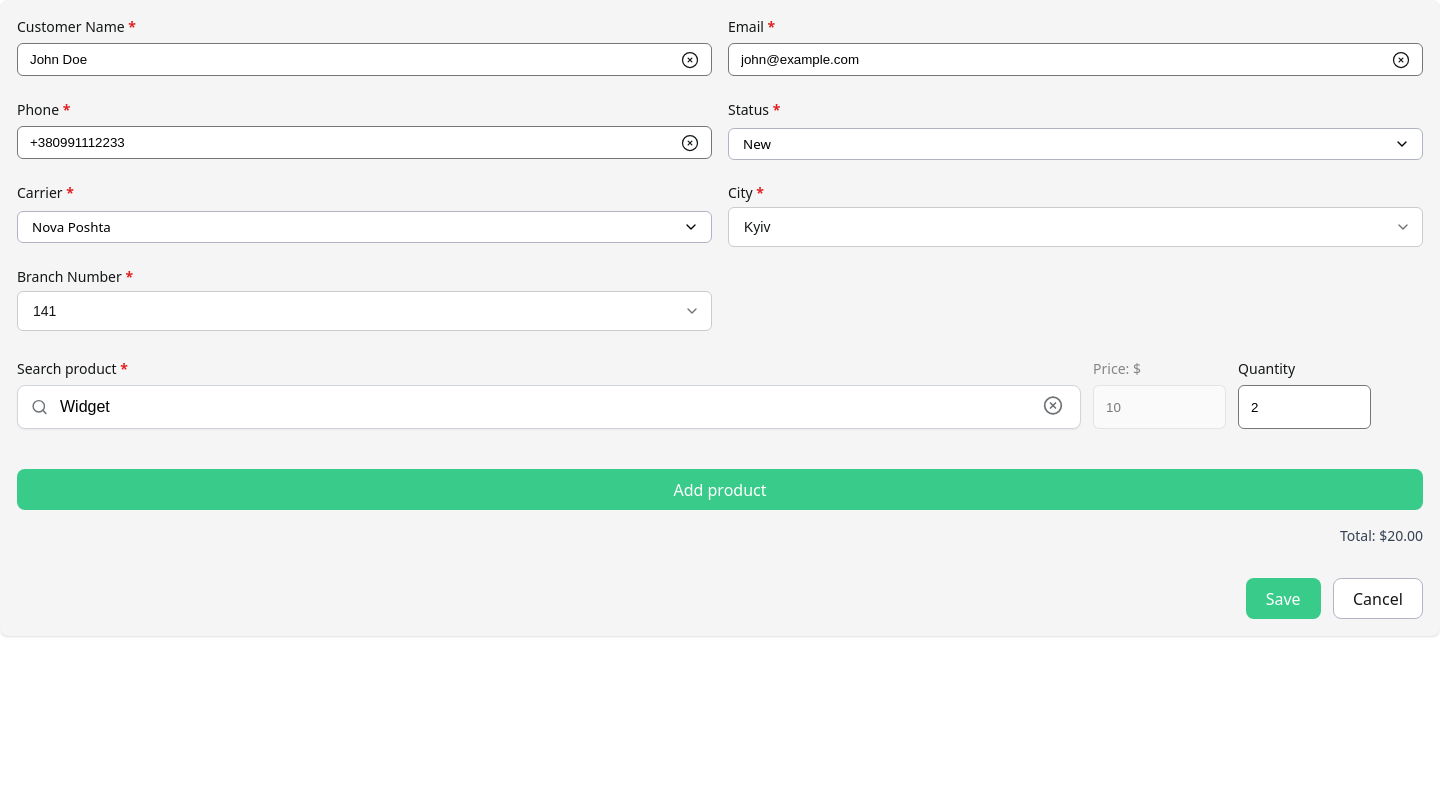
Component: AdminOrderForm › switches to non-nova carrier and clears searchable shipping mode
Click the dropdown labelled "Nova Poshta". click: (71, 227)
box: left=17, top=211, right=712, bottom=243
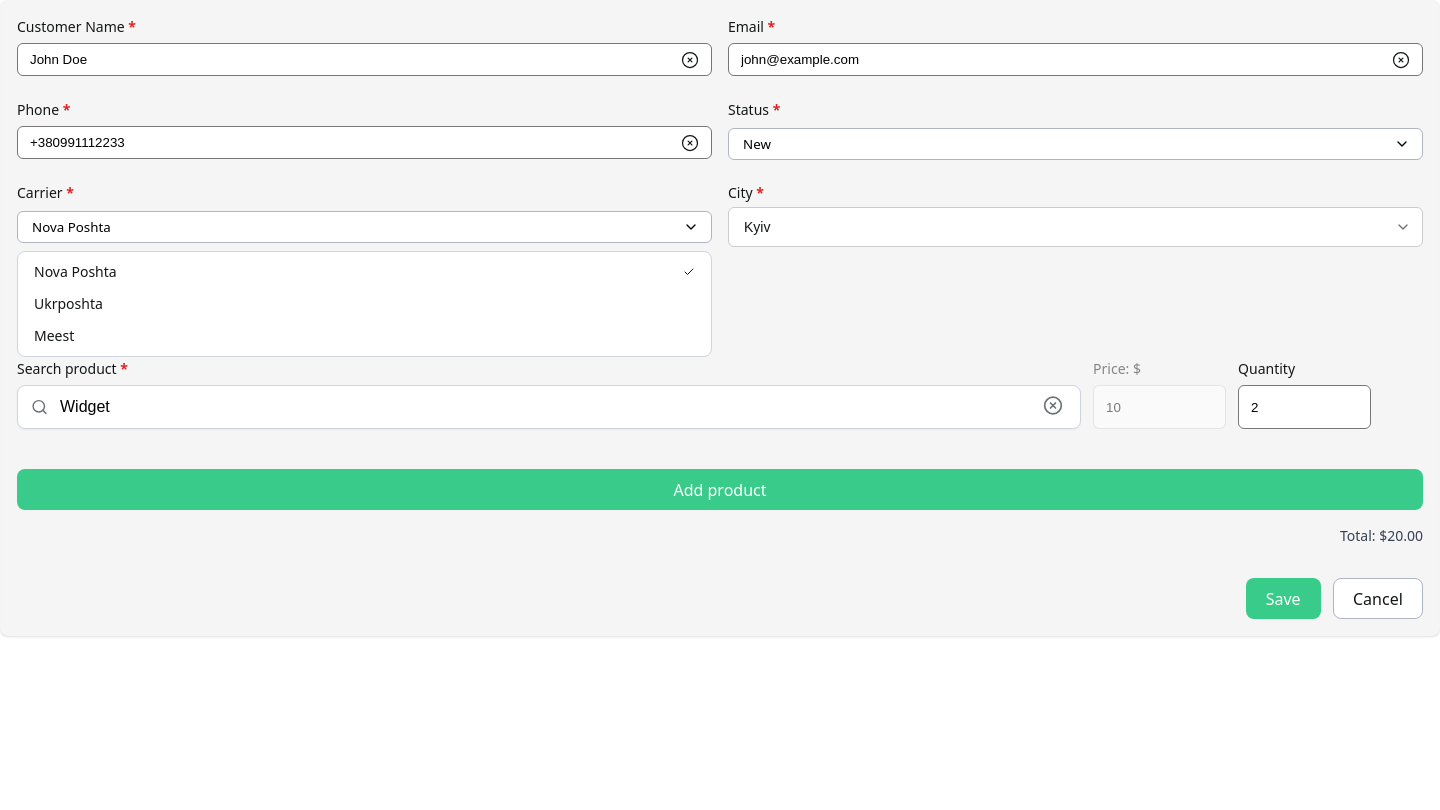
Click the option "Meest". click: (54, 336)
box: left=34, top=326, right=74, bottom=345
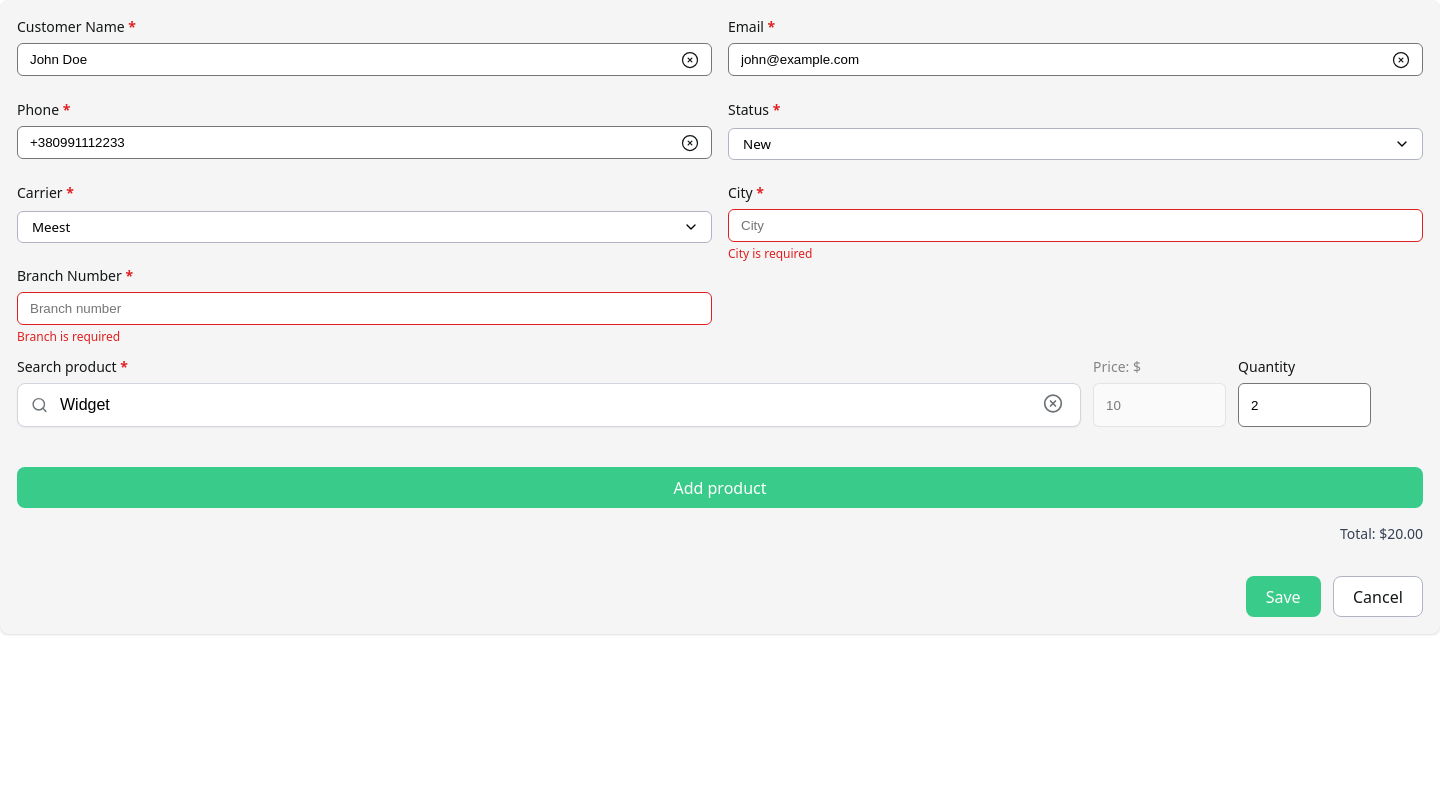
Expected: the field labelled "City *" is shown, left=728, top=209, right=1423, bottom=242
Expected: the field labelled "Branch Number *" is shown, left=17, top=292, right=712, bottom=325
